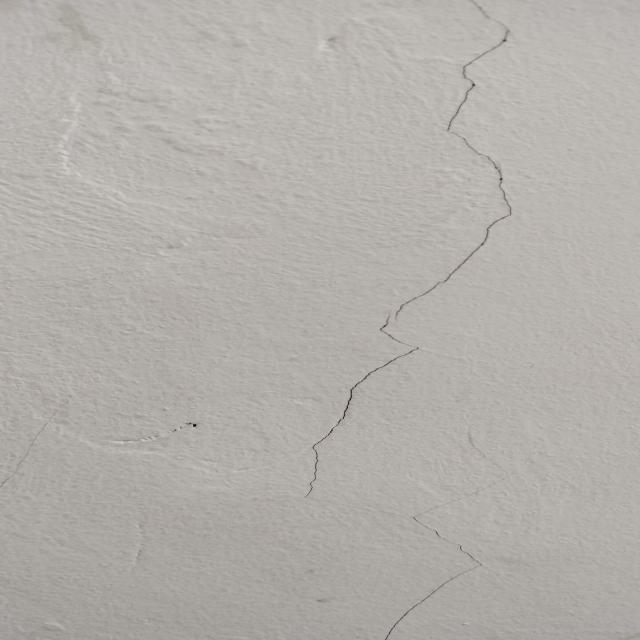Crack: (287, 1, 520, 510)
